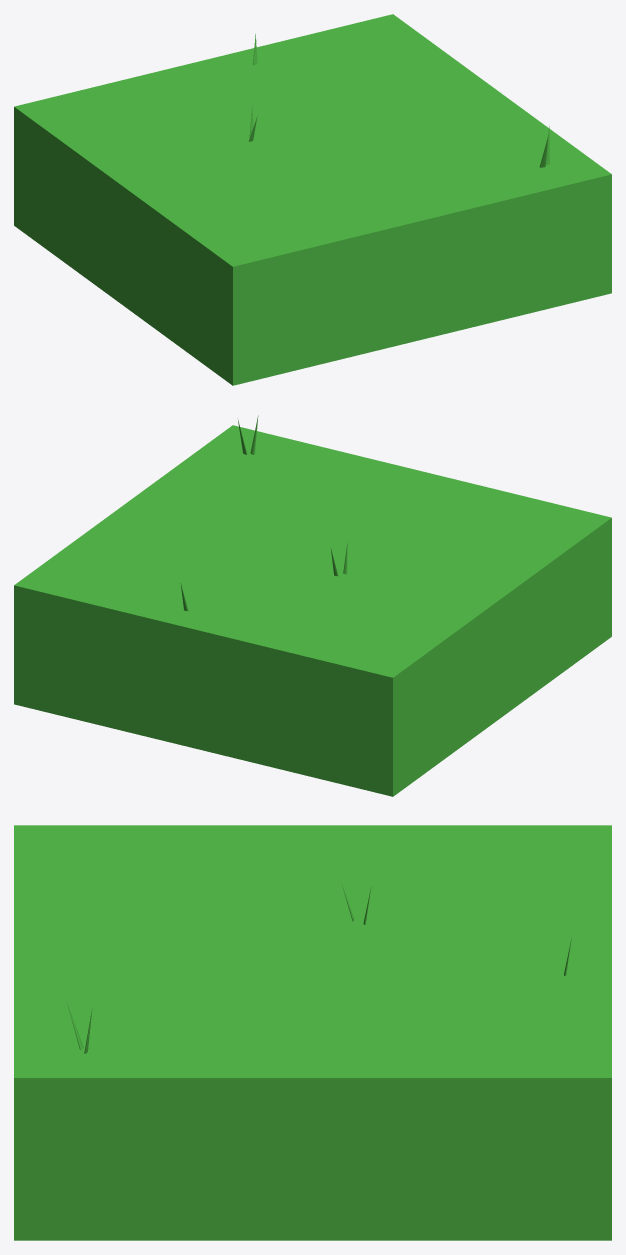
File: leo grey grass block.glb
The picture shows the model from 3 angles, top to bottom: view 1: azimuth 30°, elevation 25°; view 2: azimuth 150°, elevation 25°; view 3: azimuth 270°, elevation 25°; orthographic projection. The views are drawn at different scales.
Visible parts, largest first — view 1: Cone.002; view 2: Cone.002; view 3: Cone.002.
Part boxes in pixels (x1,y1,x2,y2): Cone.002: (14,14,611,385); Cone.002: (14,415,611,796); Cone.002: (14,825,611,1240).
Bounding box in the file's own units: 2 × 0.8203 × 2.
